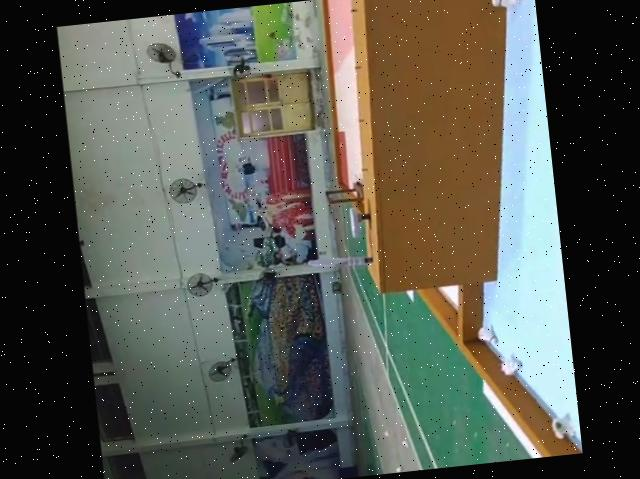Hand: (344, 204, 372, 236)
Sph: (306, 248, 374, 271)
